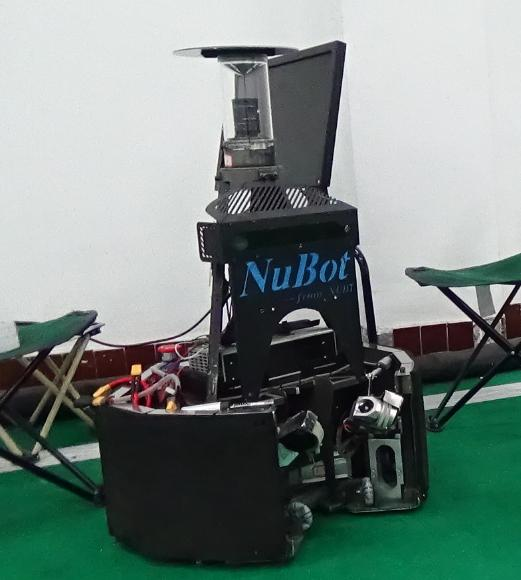robot: (91, 39, 437, 576)
